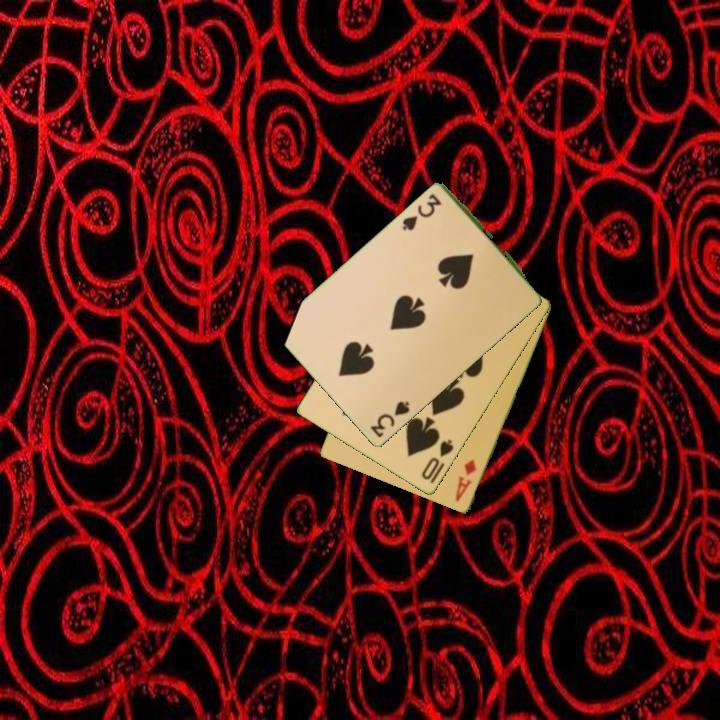10s: (418, 436, 457, 483)
3s: (399, 190, 445, 234), (367, 398, 413, 441)
Ad: (452, 456, 479, 505)
